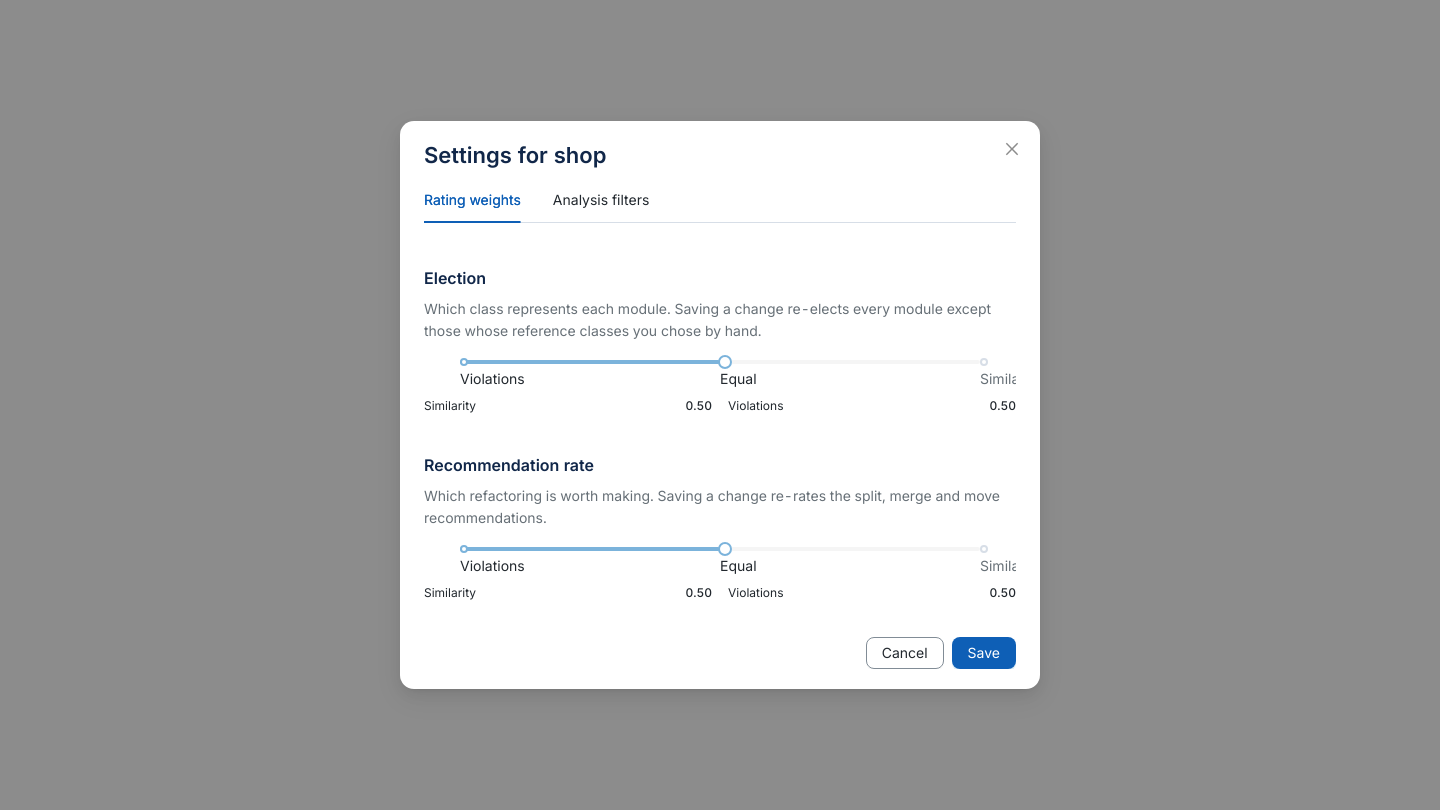
Test case: SettingsModal › shows why the API rejected the weights and stays open
Click the button "Save" at (984,653), box left=952, top=637, right=1016, bottom=669
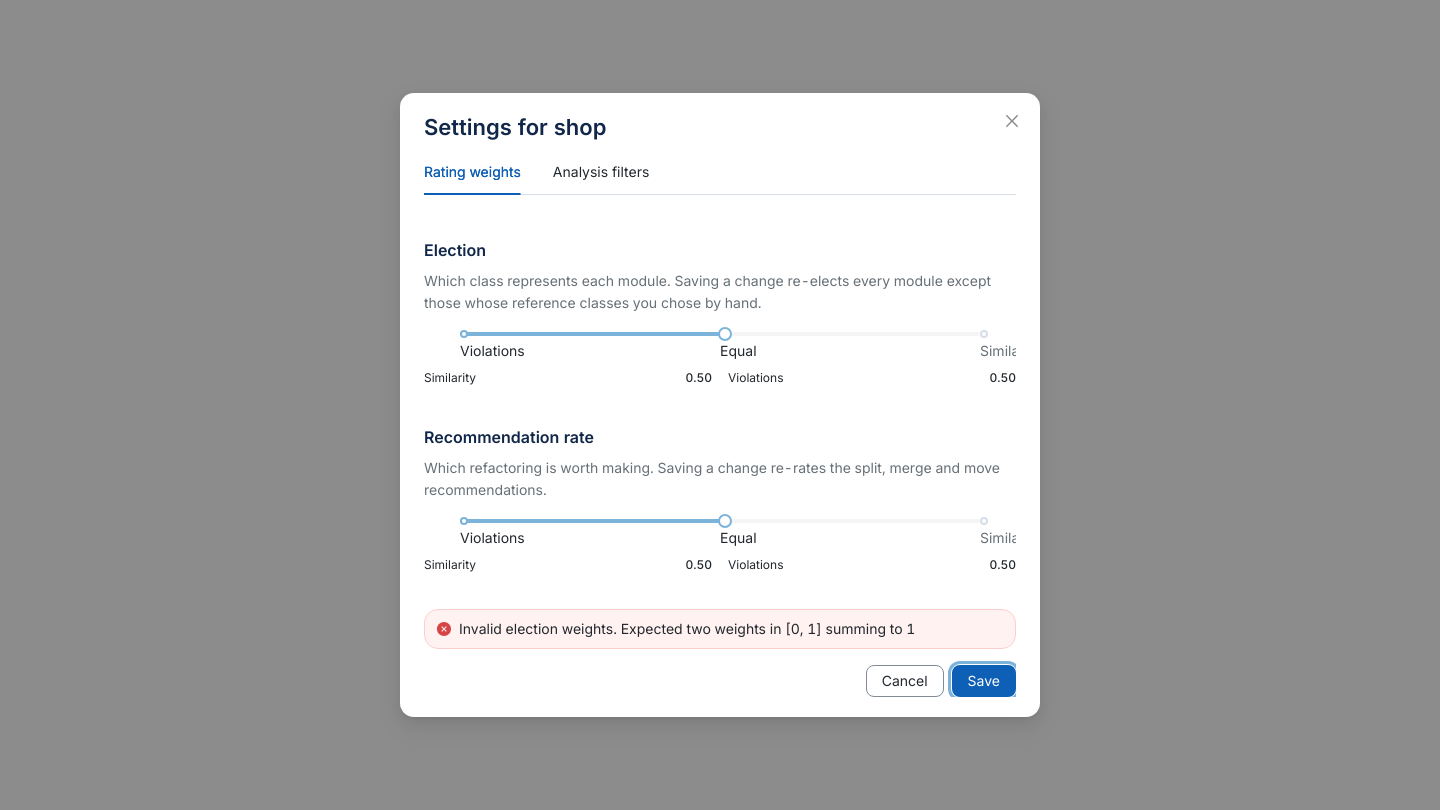
Expected: the text "Invalid election weights. Expected two weights in [0, 1] summing to 1" is shown, left=459, top=620, right=916, bottom=637
